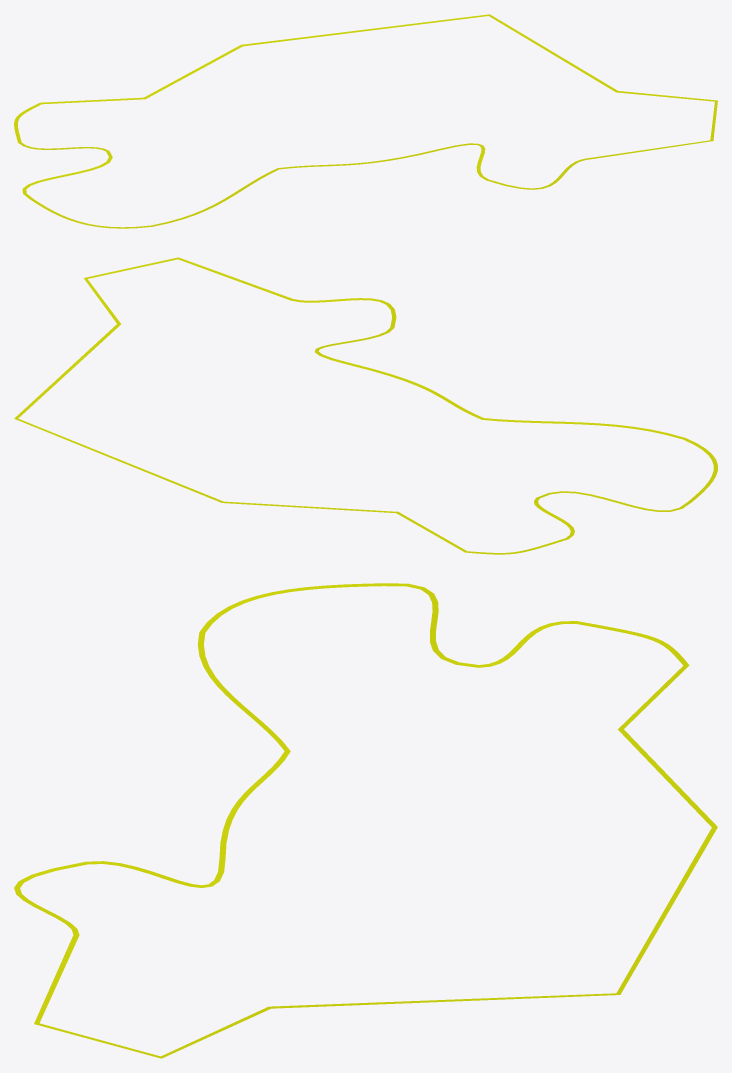
The picture shows the model from 3 angles, top to bottom: view 1: azimuth 30°, elevation 25°; view 2: azimuth 150°, elevation 25°; view 3: azimuth 270°, elevation 25°; orthographic projection. The views are drawn at different scales.
Visible parts, largest first — view 1: Curva Bezier; view 2: Curva Bezier; view 3: Curva Bezier.
Boxes of the visible parts, box(x1,y1,x2,y2) form: Curva Bezier: box(14, 14, 717, 228); Curva Bezier: box(14, 257, 717, 554); Curva Bezier: box(14, 583, 717, 1058).
Size of the model in its own units: 7.33 by 4.59 by 0.002.
